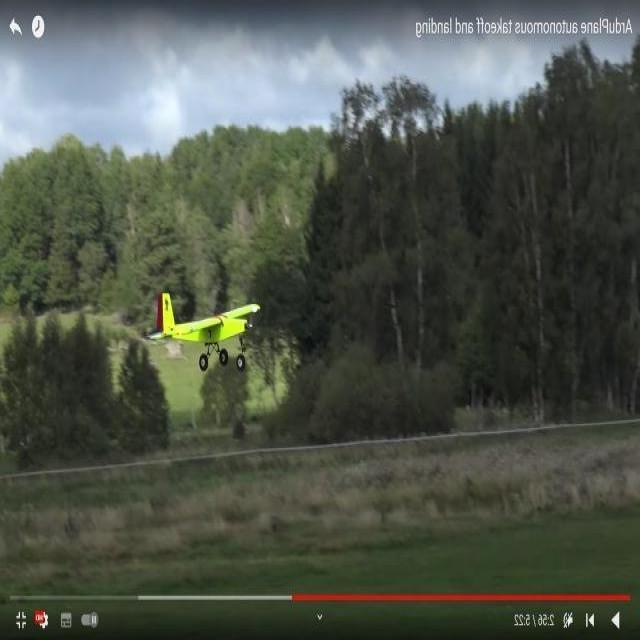Airplane: (144, 284, 264, 380)
